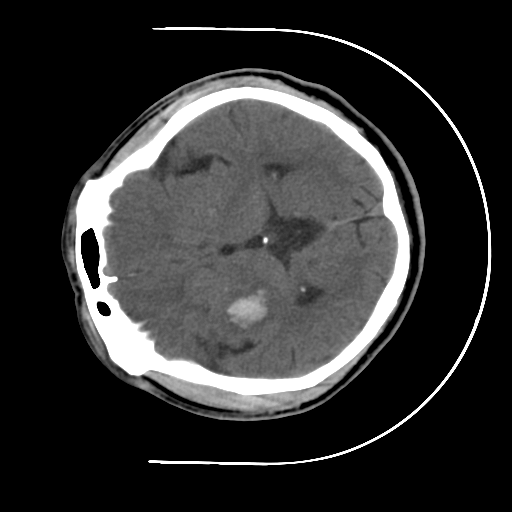a: (210, 275, 285, 340)
